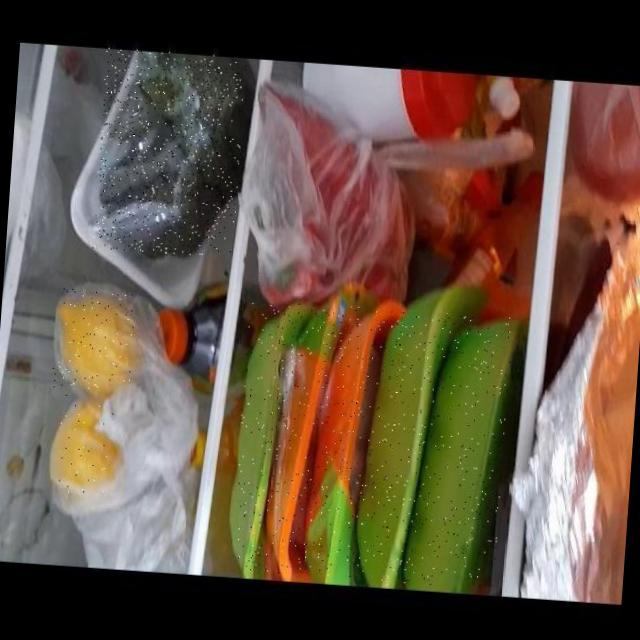Carne pollo: (229, 298, 512, 590)
